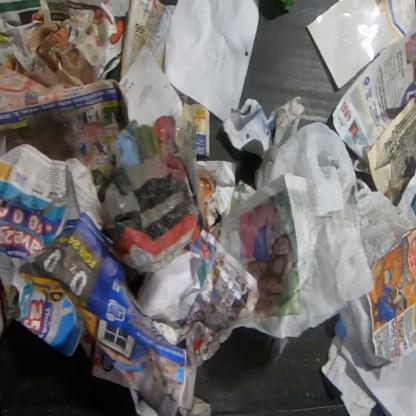soft_plastic: (253, 120, 415, 272), (98, 115, 205, 276), (305, 0, 397, 90), (338, 293, 390, 369), (64, 109, 106, 173)
